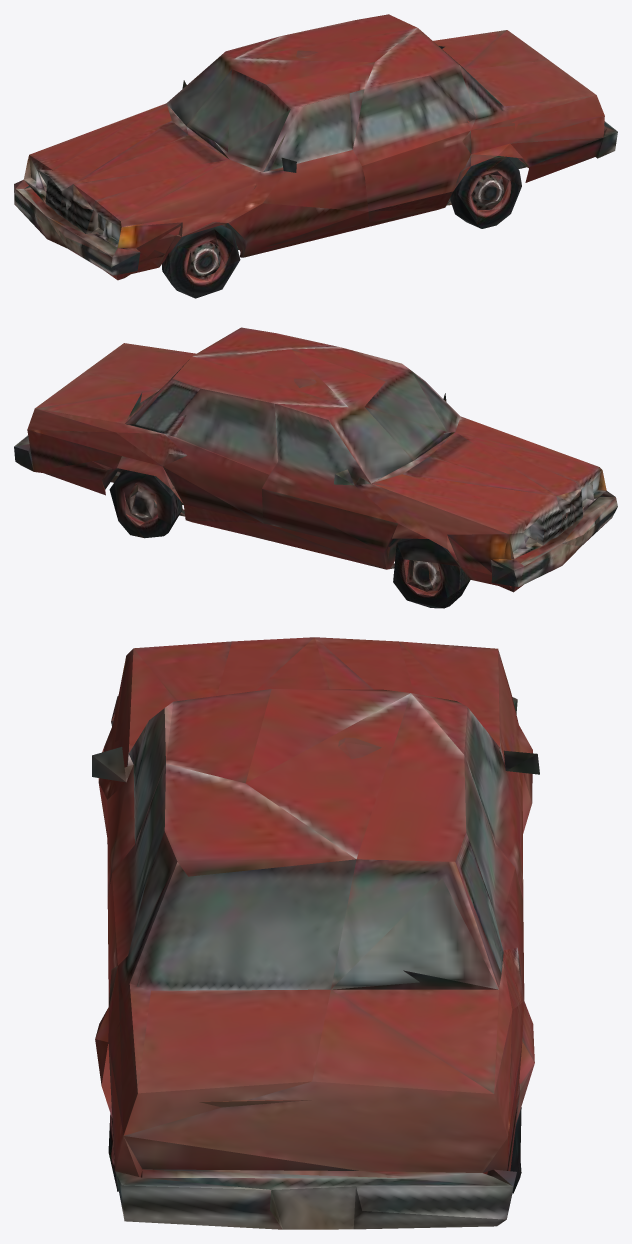
The model's file is sedan.glb.
3 renders of one model, top to bottom at view 1: azimuth 30°, elevation 25°; view 2: azimuth 150°, elevation 25°; view 3: azimuth 270°, elevation 25°, orthographic. The views are drawn at different scales.
Size of the model in its own units: 1.9 by 0.5713 by 0.7155.
Materials: 1 (1 with a texture image).
